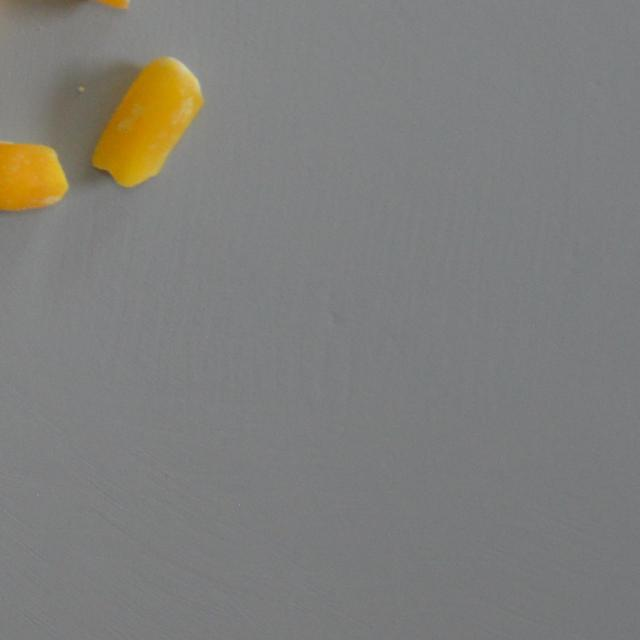dañado: (0, 132, 72, 214), (40, 0, 152, 14)
pelicula: (88, 50, 207, 192)
